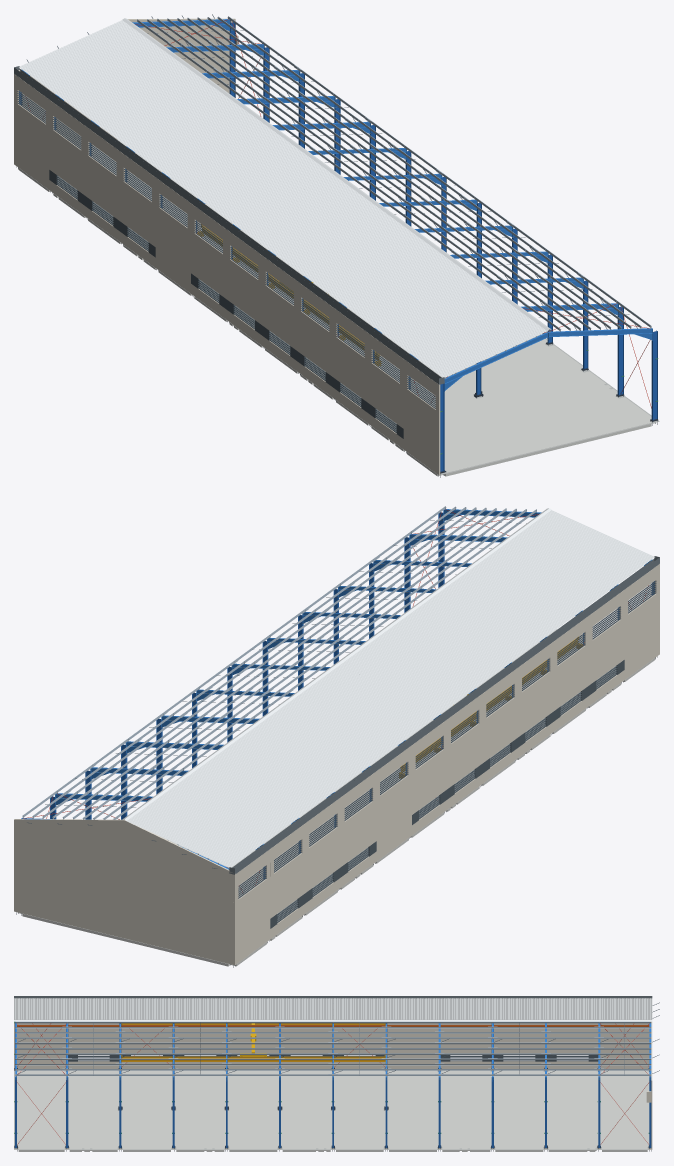
The model's file is rangka.glb.
3 views of the same model, one above another, from view 1: azimuth 30°, elevation 25°; view 2: azimuth 150°, elevation 25°; view 3: azimuth 270°, elevation 25° (orthographic). The views are drawn at different scales.
Visible parts, largest first — view 1: atap, dinding, lantai, gording, rafter, kolom, talang, ikatan, runway, alas; view 2: dinding, atap, gording, rafter, talang, lantai, kolom, ikatan, runway; view 3: lantai, dinding, gording, atap, kolom, talang, runway, rafter, ikatan, strut, alas, dasar.
Boxes of the visible parts, x1,y1,x2,y2 form: atap: (19, 18, 551, 377); dinding: (14, 18, 440, 475); lantai: (18, 139, 655, 476); gording: (137, 16, 651, 378); rafter: (21, 19, 652, 391); kolom: (19, 22, 657, 471); talang: (14, 66, 444, 384); ikatan: (26, 14, 651, 408); runway: (197, 224, 380, 365); alas: (15, 165, 659, 475); dinding: (14, 564, 659, 965); atap: (122, 508, 654, 867); gording: (22, 506, 536, 868); rafter: (21, 509, 652, 869); talang: (229, 556, 659, 874); lantai: (19, 629, 655, 966); kolom: (50, 512, 654, 878); ikatan: (23, 509, 648, 892); runway: (399, 636, 582, 778); lantai: (17, 1070, 649, 1151); dinding: (14, 1021, 652, 1149); gording: (15, 1021, 651, 1076); atap: (14, 998, 652, 1021); kolom: (15, 1022, 651, 1147); talang: (14, 996, 652, 998); runway: (121, 1023, 385, 1063); rafter: (15, 1023, 651, 1080); ikatan: (16, 1002, 659, 1144); strut: (17, 1025, 649, 1026); alas: (14, 1069, 651, 1149); dasar: (14, 1068, 651, 1151).
Bounding box in the file's own units: 18.02 × 9.68 × 60.71.
